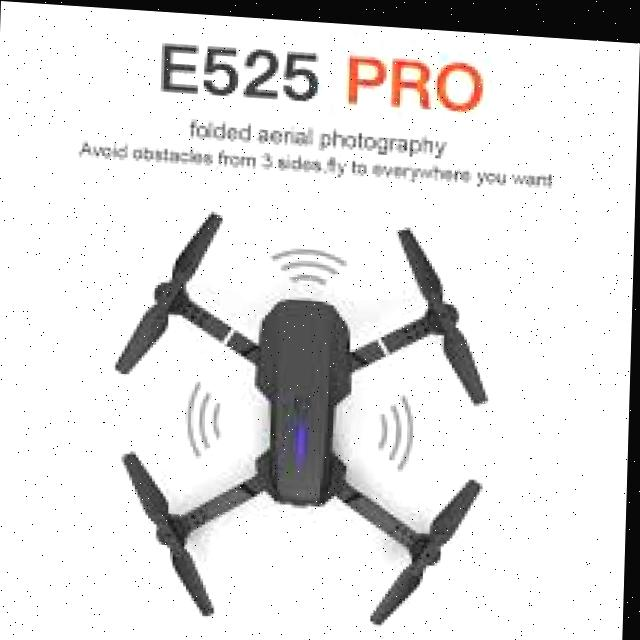drone: (82, 188, 503, 640)
